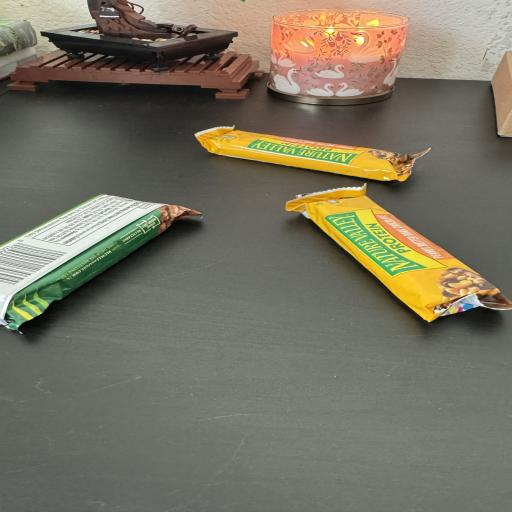granola: (286, 186, 511, 321), (0, 195, 200, 329), (196, 127, 428, 181)
